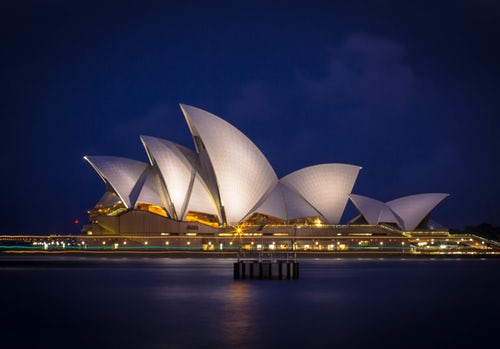opera house: (52, 97, 475, 265)
